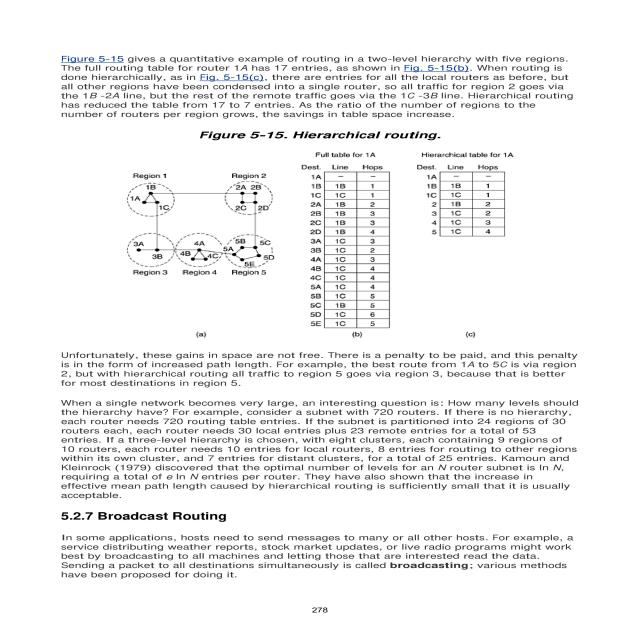diagram: (88, 120, 557, 341)
